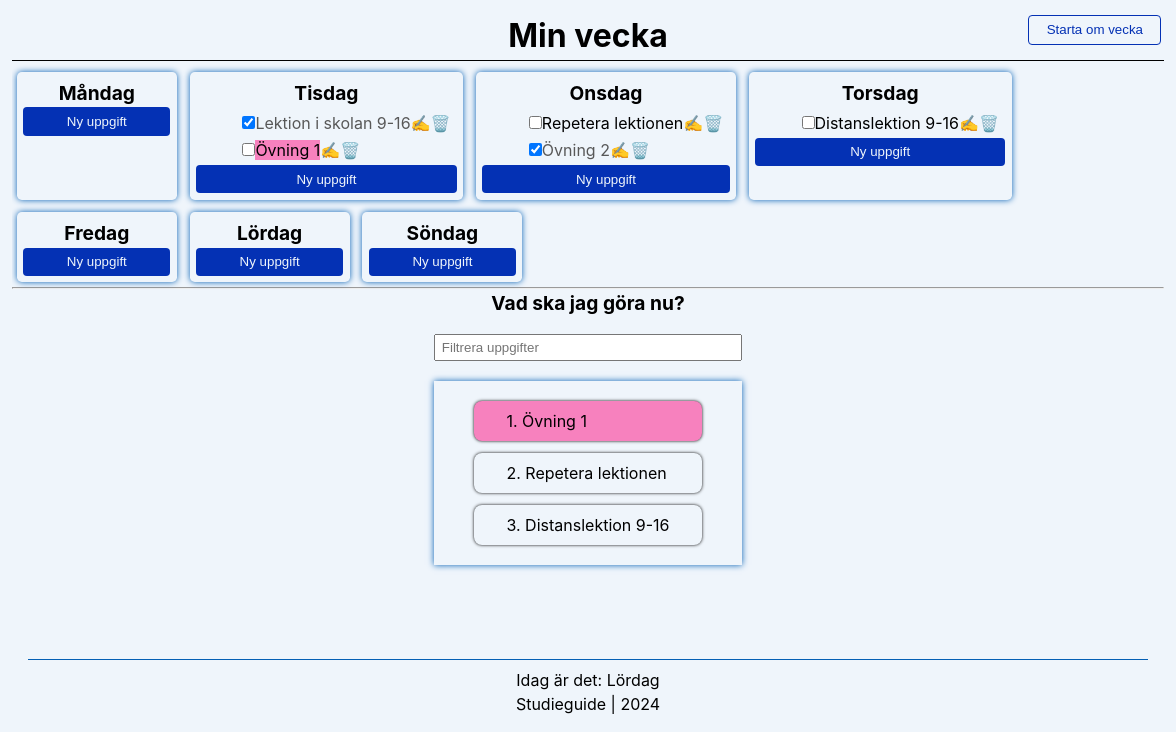
it: Todo Application - Item-komponent › tillåter redigering och uppdatering av en todo-item
Click the icon titled "Ändra" next to "Lektion i skolan 9-16" at (421, 123), box [411,113,431,133]
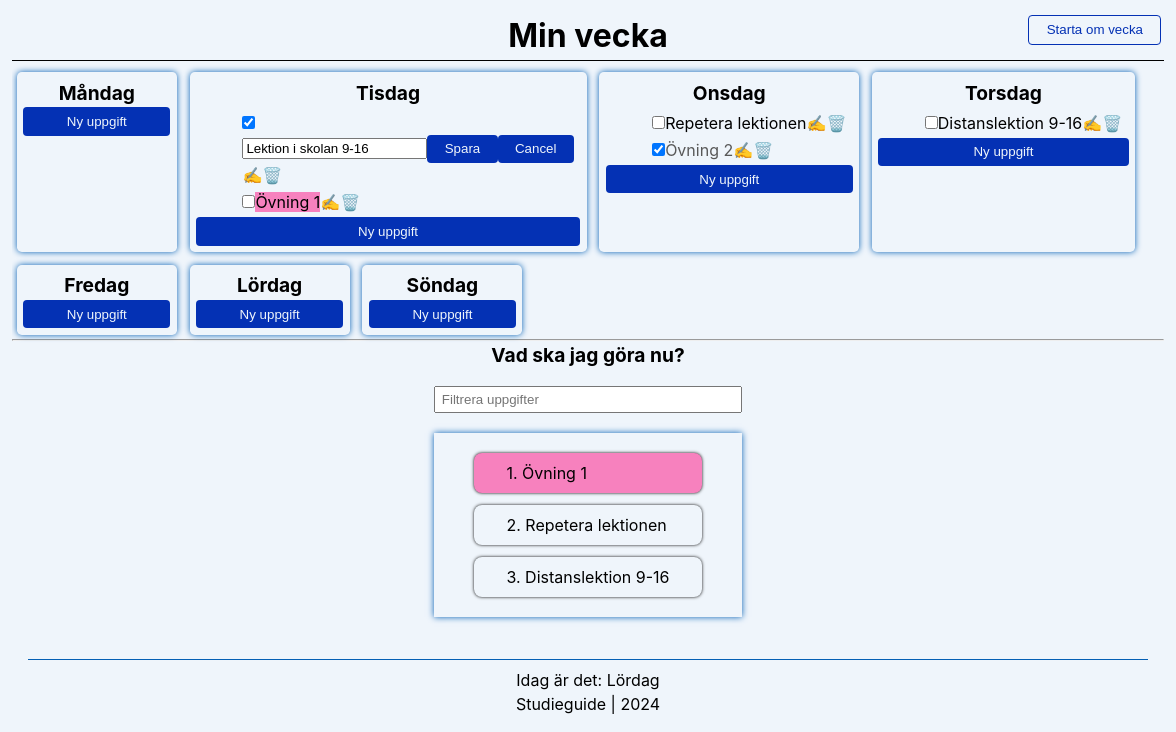
Check: the field is shown
Replace the text in the field with "Uppdaterad todo" at (335, 149), box [242,138,427,159]
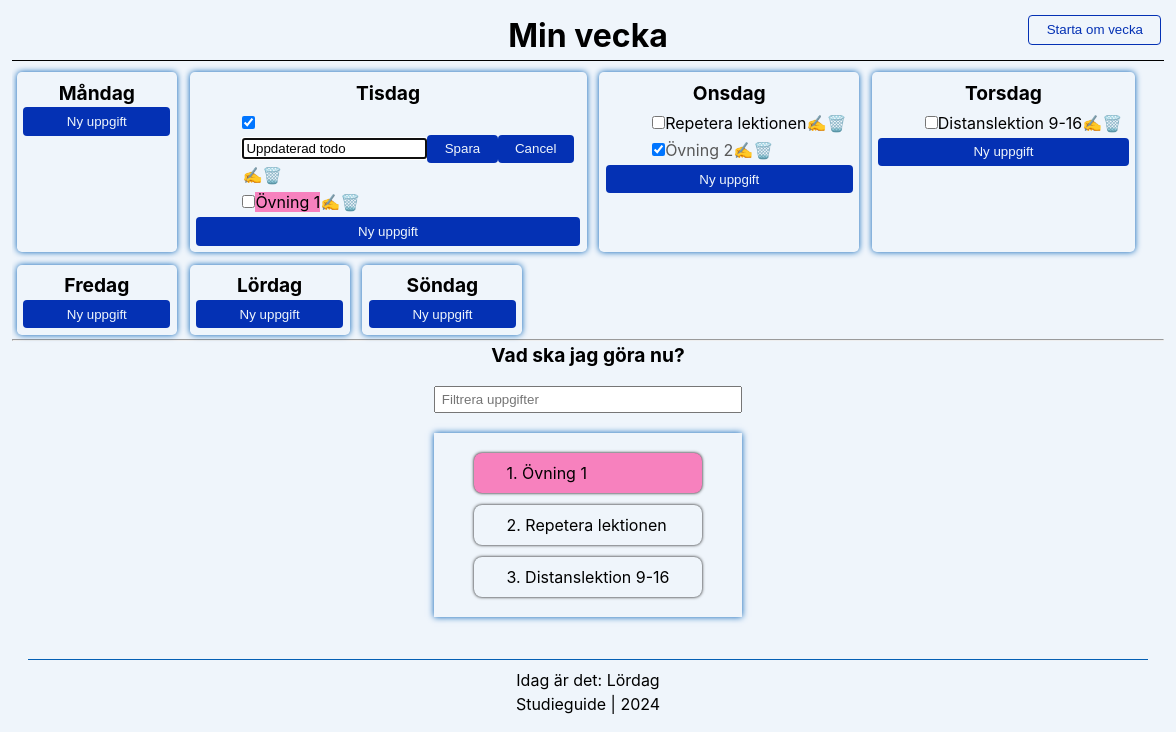
Click the button titled "Spara" at (462, 149), box [427,135,497,163]
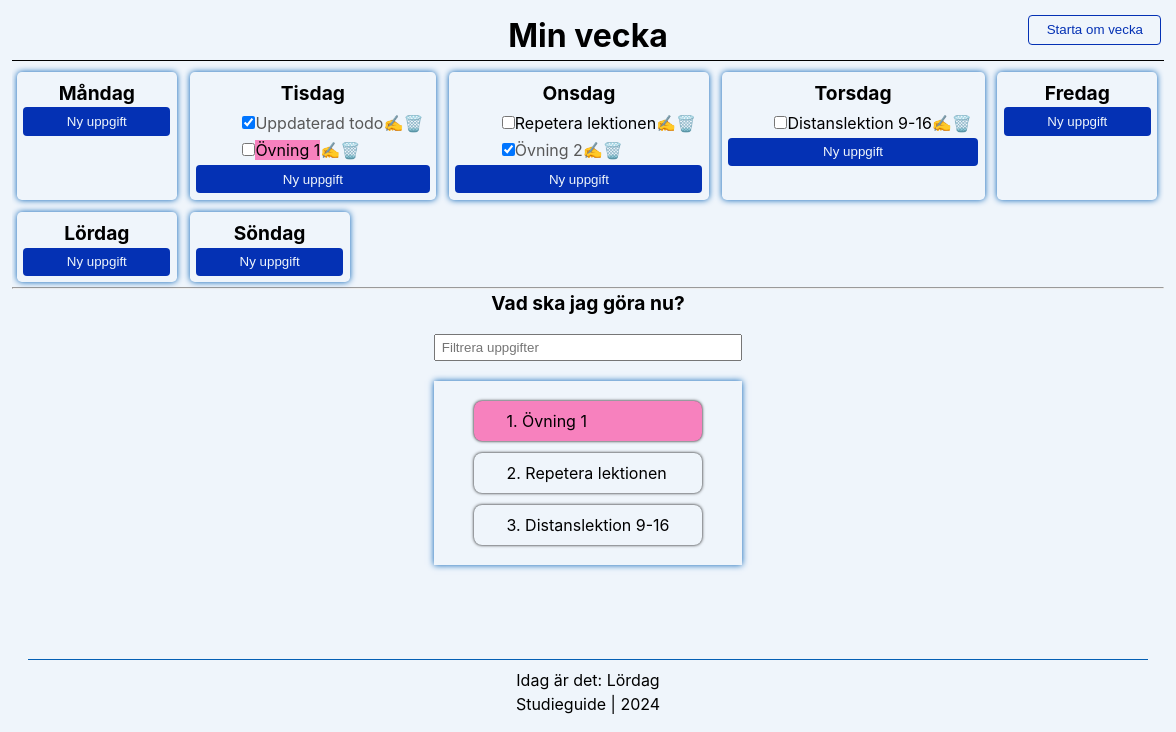
Check: the label "Uppdaterad todo" is shown, box [255,113,384,133]
